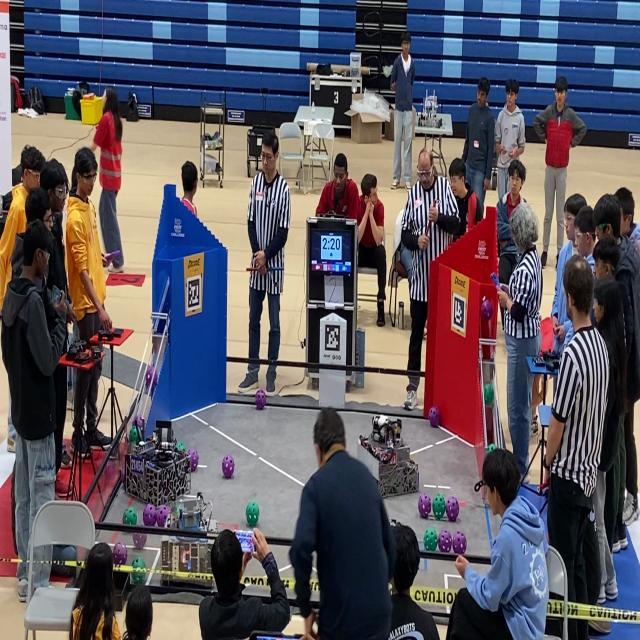artifact_green: (131, 557, 146, 584), (432, 494, 445, 519), (246, 501, 259, 526), (424, 528, 437, 551), (129, 425, 141, 446), (484, 383, 494, 407), (122, 508, 136, 525), (486, 443, 496, 455), (176, 442, 186, 453)
artifact_purple: (112, 543, 128, 565), (221, 455, 235, 480), (446, 496, 459, 521), (143, 503, 157, 526), (418, 494, 431, 518), (438, 530, 452, 552), (453, 532, 466, 554), (145, 364, 156, 389), (481, 299, 493, 321), (157, 505, 169, 527), (255, 389, 267, 410), (133, 533, 146, 550), (188, 449, 198, 471), (429, 406, 439, 427), (134, 415, 145, 429), (152, 371, 158, 392), (120, 467, 124, 483)
